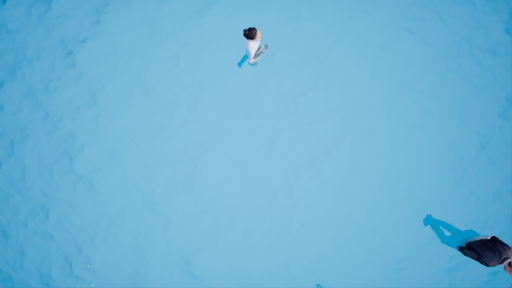person: (414, 217, 512, 275), (234, 21, 270, 69)
